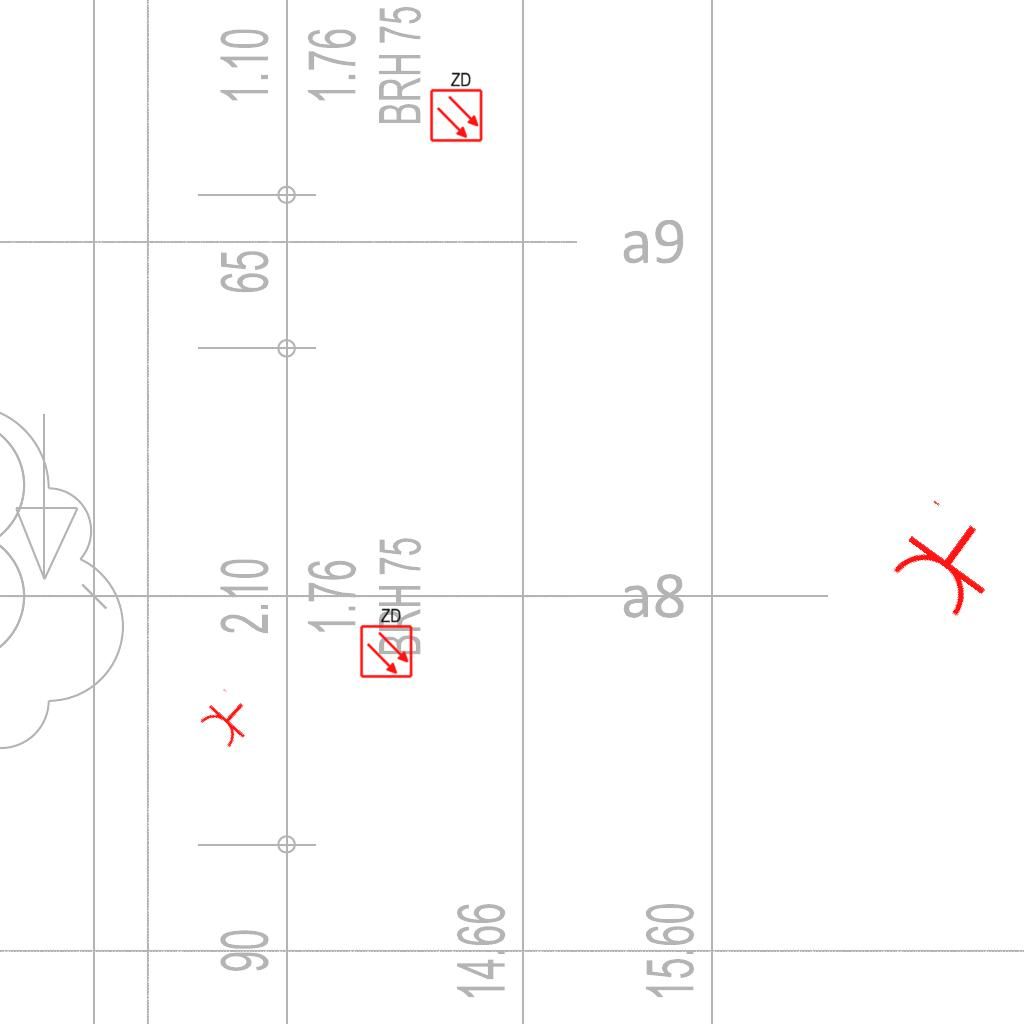Schukosteckdose_einfach: (881, 495, 1014, 625), (194, 686, 261, 752)
ZD_Melder_in_Zwischendecke_mit_Revisionsoeffnung_mind_40_x_40_cm: (427, 69, 484, 143), (357, 605, 414, 679)
